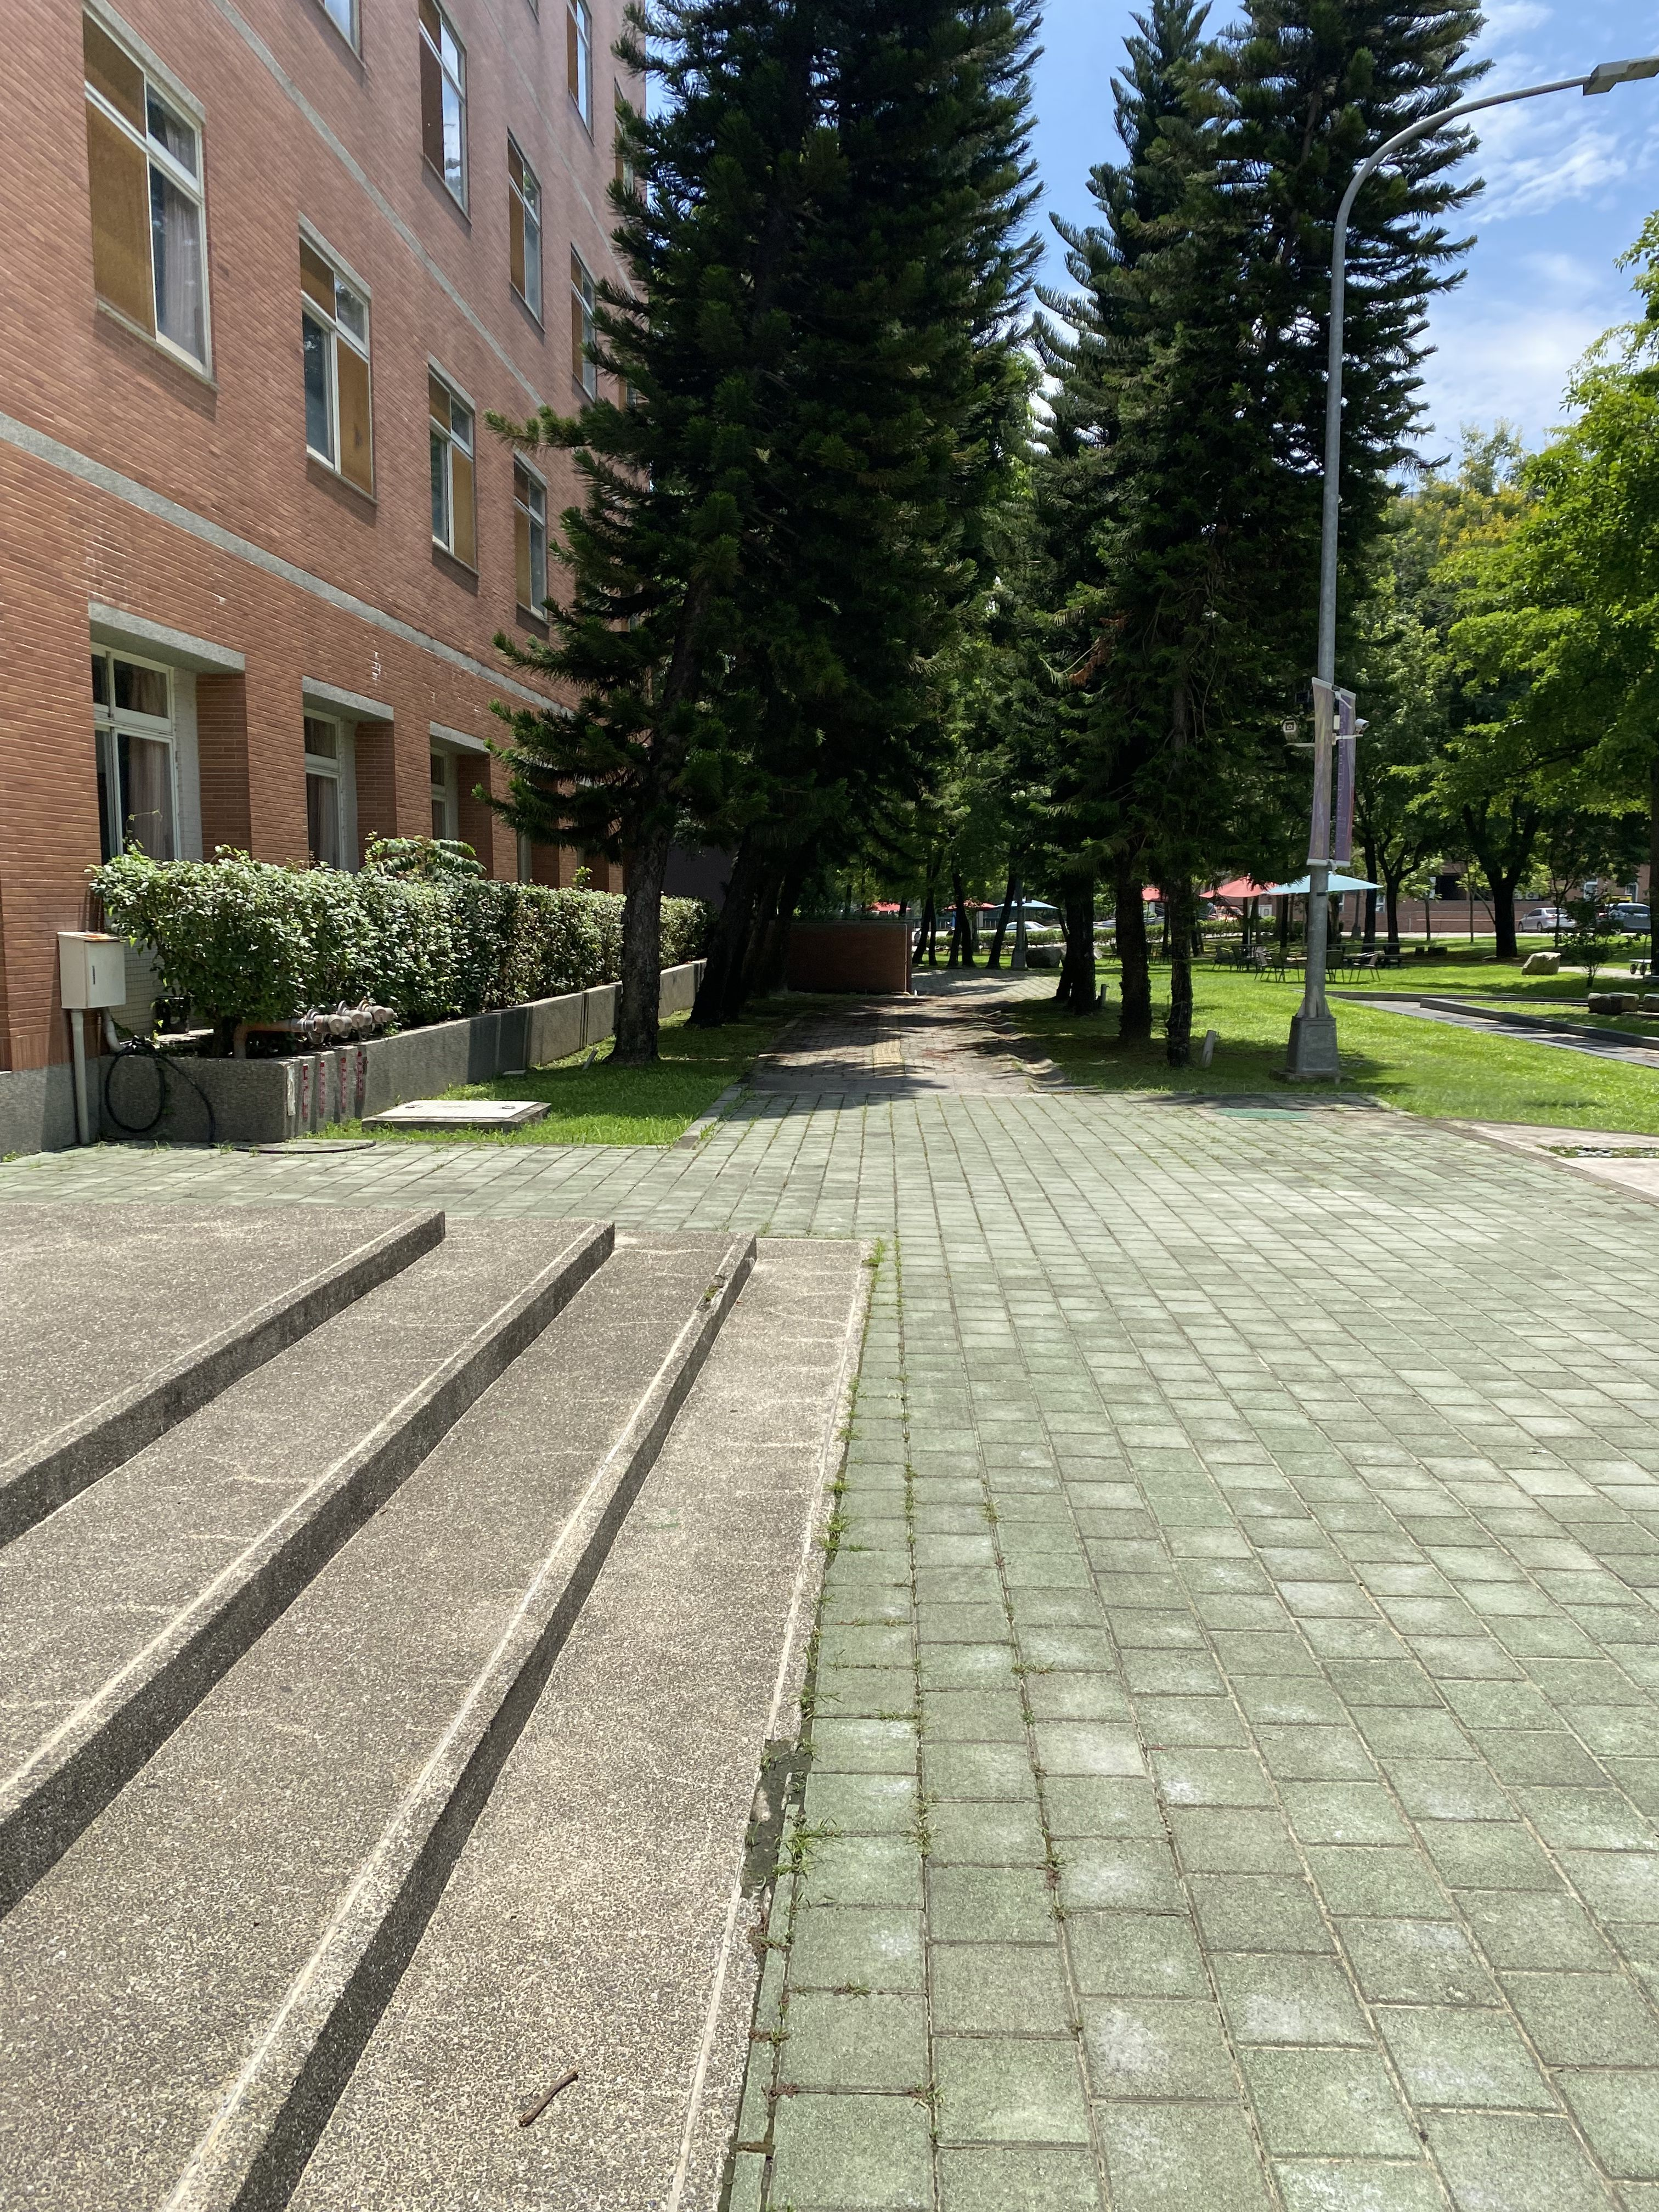sidewalk: (502, 949, 1659, 2212)
